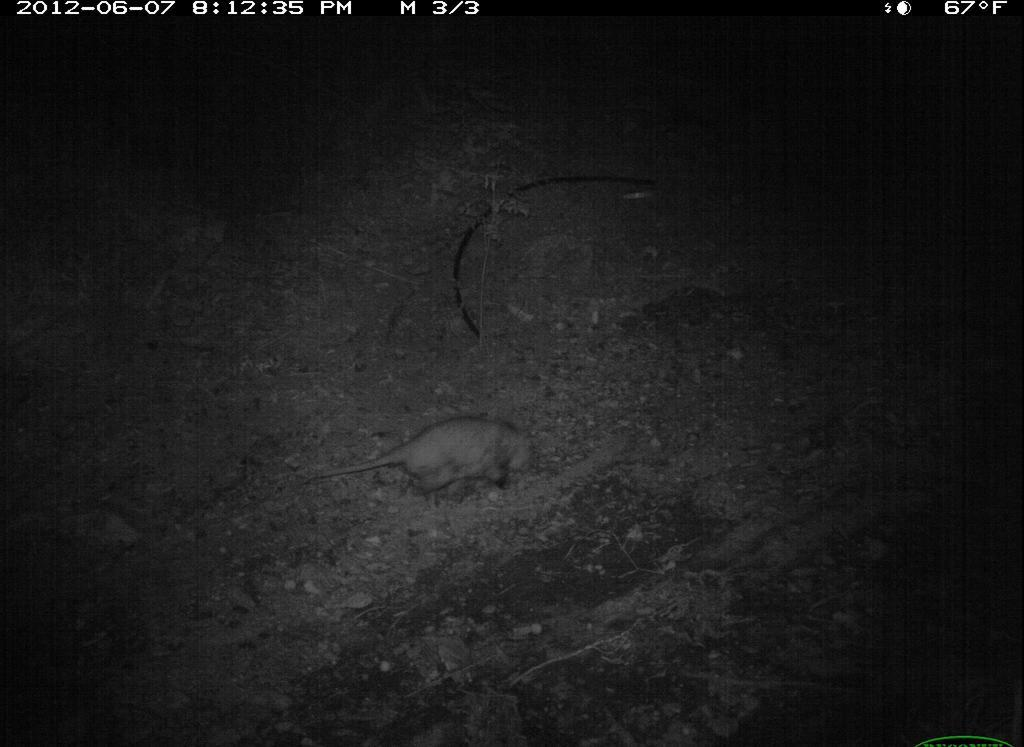opossum: (296, 414, 541, 519)
